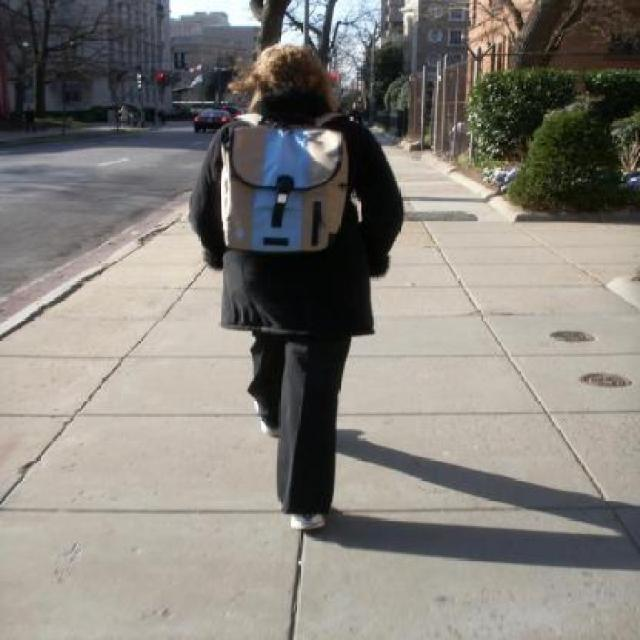backpack: (217, 109, 358, 257)
